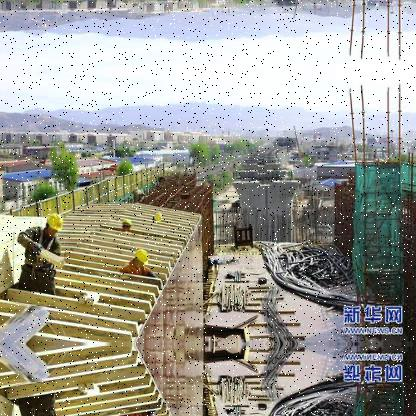Helmet: (38, 205, 70, 241), (130, 243, 154, 272), (150, 208, 170, 230), (116, 216, 134, 236)
